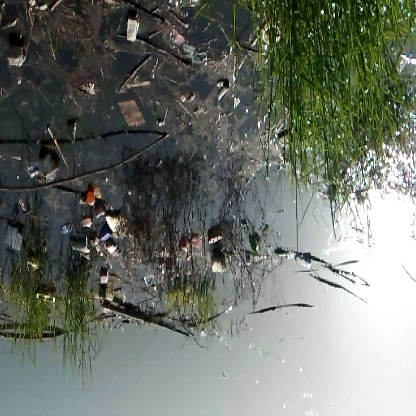branch: (102, 297, 198, 346)
